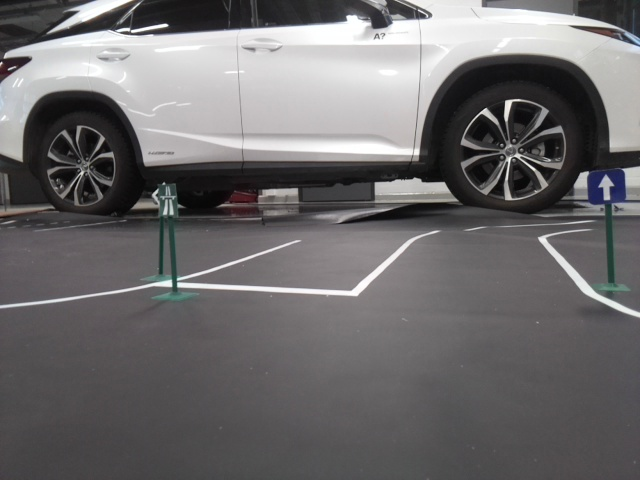OneWay: (588, 168, 627, 200)
